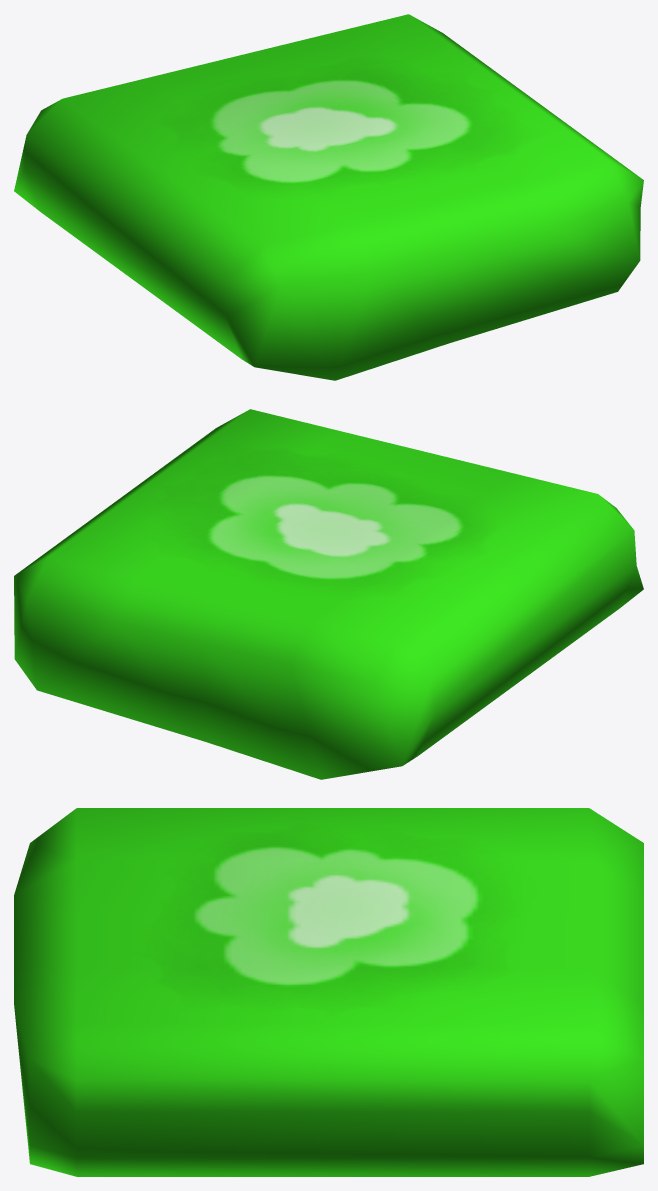
The model's file is rd_a11_top.obj.
The picture shows the model from 3 angles, top to bottom: view 1: azimuth 30°, elevation 25°; view 2: azimuth 150°, elevation 25°; view 3: azimuth 270°, elevation 25°; orthographic projection. The views are drawn at different scales.
Visible parts, largest first — view 1: rd_a11_top:polySurface11; view 2: rd_a11_top:polySurface11; view 3: rd_a11_top:polySurface11.
Part boxes in pixels (x1=…): rd_a11_top:polySurface11: x1=14, y1=14, x2=643, y2=380; rd_a11_top:polySurface11: x1=14, y1=409, x2=643, y2=779; rd_a11_top:polySurface11: x1=14, y1=808, x2=643, y2=1176.
Bounding box in the file's own units: 106 × 34.2 × 108.
Materials: 1 (1 with a texture image).
